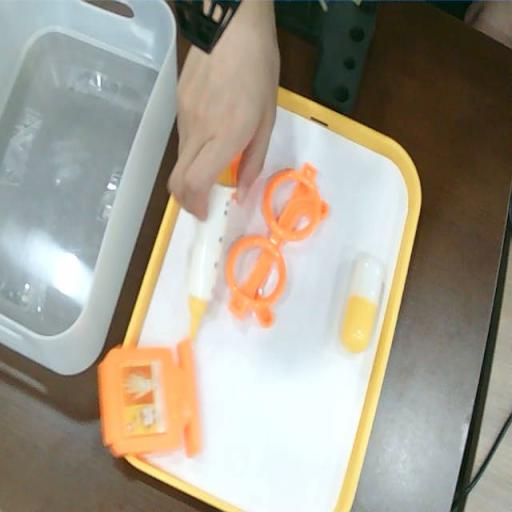hospital: (170, 45, 283, 216)
